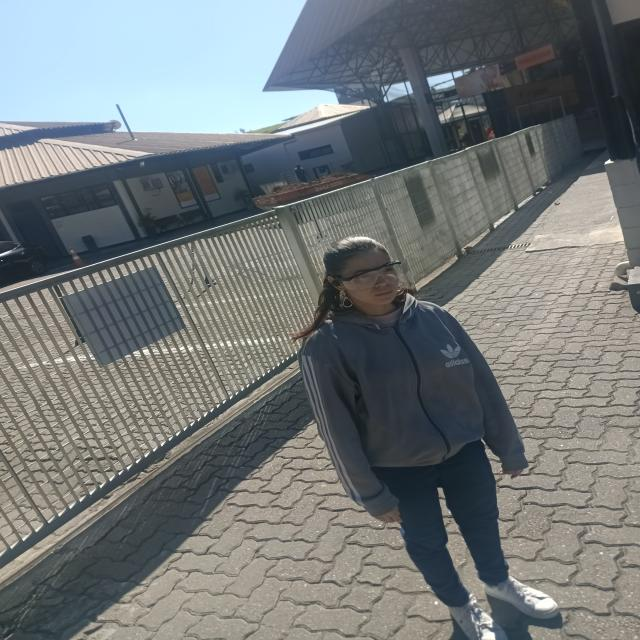oculos-epi: (340, 261, 403, 290)
